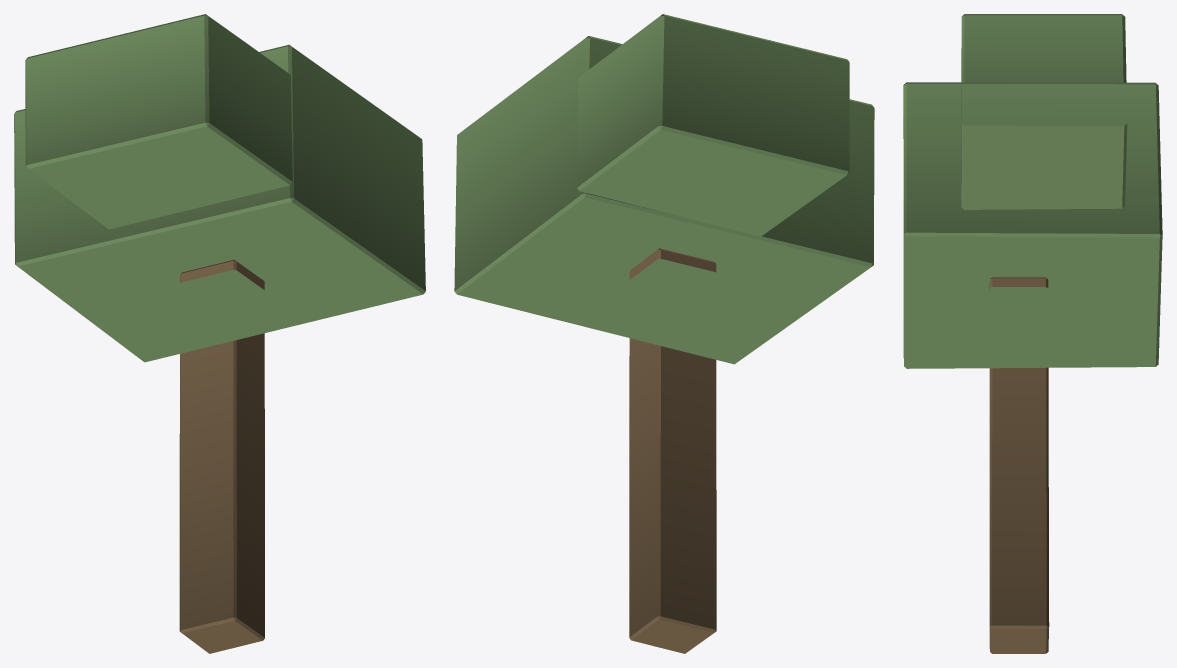
File: tree_a.glb
3 views of the same model, side by side, from view 1: azimuth 30°, elevation 25°; view 2: azimuth 150°, elevation 25°; view 3: azimuth 270°, elevation 25° (orthographic). The views are drawn at different scales.
Visible parts, largest first — view 1: Canopy, Canopy2, Trunk; view 2: Canopy, Canopy2, Trunk; view 3: Canopy, Canopy2, Trunk.
Part boxes in pixels (left/top/right/bottom): Canopy: left=14, top=44, right=425, bottom=362; Canopy2: left=25, top=14, right=292, bottom=229; Trunk: left=179, top=259, right=264, bottom=653; Canopy: left=454, top=36, right=874, bottom=364; Canopy2: left=577, top=14, right=849, bottom=236; Trunk: left=629, top=248, right=716, bottom=653; Canopy: left=903, top=82, right=1162, bottom=368; Canopy2: left=961, top=14, right=1127, bottom=209; Trunk: left=989, top=277, right=1049, bottom=653.
Size of the model in its own units: 1.34 by 2.55 by 1.07.
